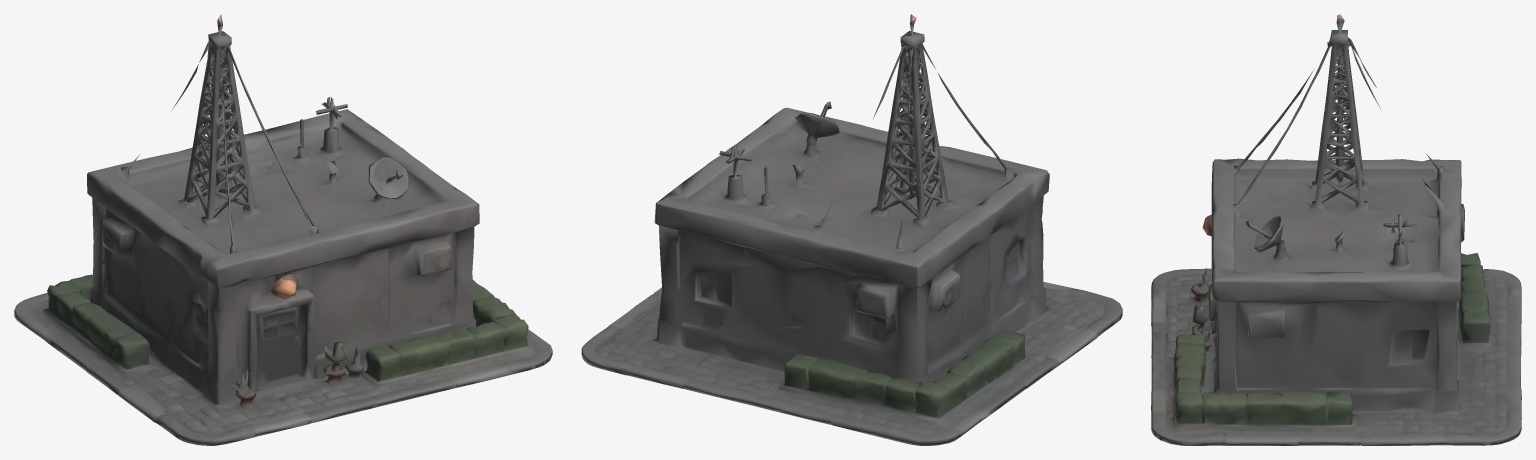
Rendered from radio_station_main.glb.
3 views of the same model, side by side, from view 1: azimuth 30°, elevation 25°; view 2: azimuth 150°, elevation 25°; view 3: azimuth 270°, elevation 25° (orthographic). The views are drawn at different scales.
Visible parts, largest first — view 1: tripo_node_442ce551-2b93-48dc-bd89-867f988c8b8a; view 2: tripo_node_442ce551-2b93-48dc-bd89-867f988c8b8a; view 3: tripo_node_442ce551-2b93-48dc-bd89-867f988c8b8a.
Boxes of the visible parts, box(x1,y1,x2,y2) form: tripo_node_442ce551-2b93-48dc-bd89-867f988c8b8a: box(14, 14, 552, 445); tripo_node_442ce551-2b93-48dc-bd89-867f988c8b8a: box(581, 14, 1122, 445); tripo_node_442ce551-2b93-48dc-bd89-867f988c8b8a: box(1151, 14, 1521, 445).
Bounding box in the file's own units: 1 × 0.858 × 0.9069.
Materials: 1 (1 with a texture image).
